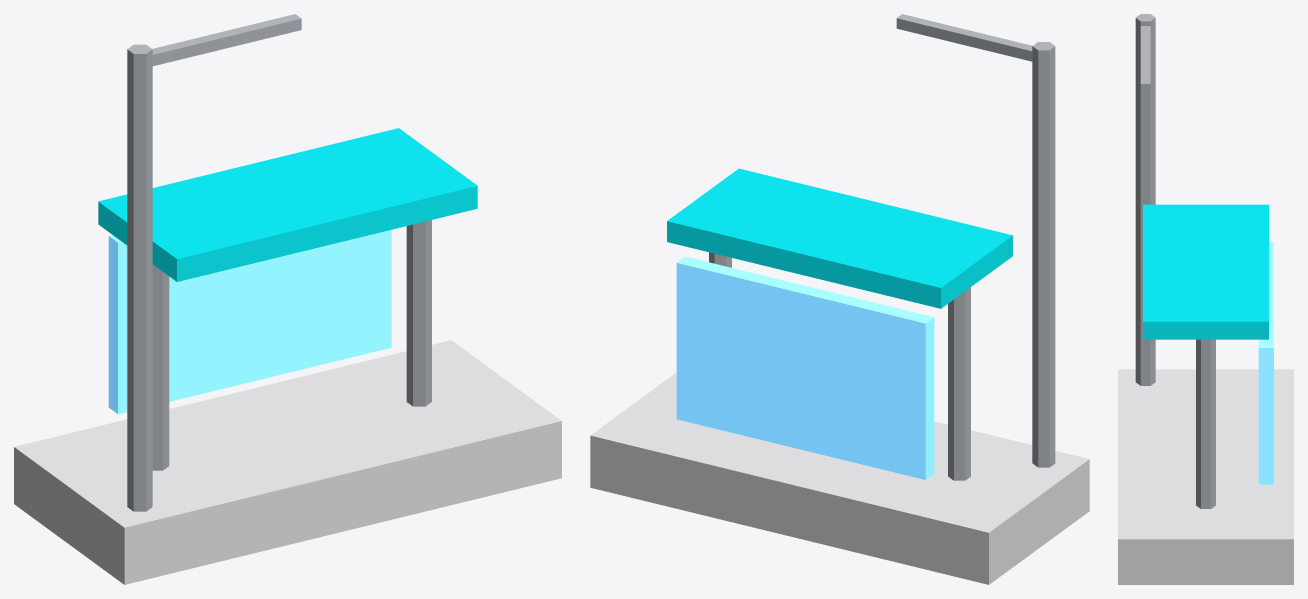
Rendered from tramstop.glb.
3 renders of one model, left to right at view 1: azimuth 30°, elevation 25°; view 2: azimuth 150°, elevation 25°; view 3: azimuth 270°, elevation 25°, orthographic. The views are drawn at different scales.
Parts seen in each view (by area): view 1: tramstop; view 2: tramstop; view 3: tramstop.
Boxes of the visible parts, x1,y1,x2,y2 form: tramstop: [14, 14, 561, 584]; tramstop: [590, 14, 1089, 584]; tramstop: [1118, 14, 1293, 584].
Size of the model in its own units: 0.8 by 0.9 by 0.35.
